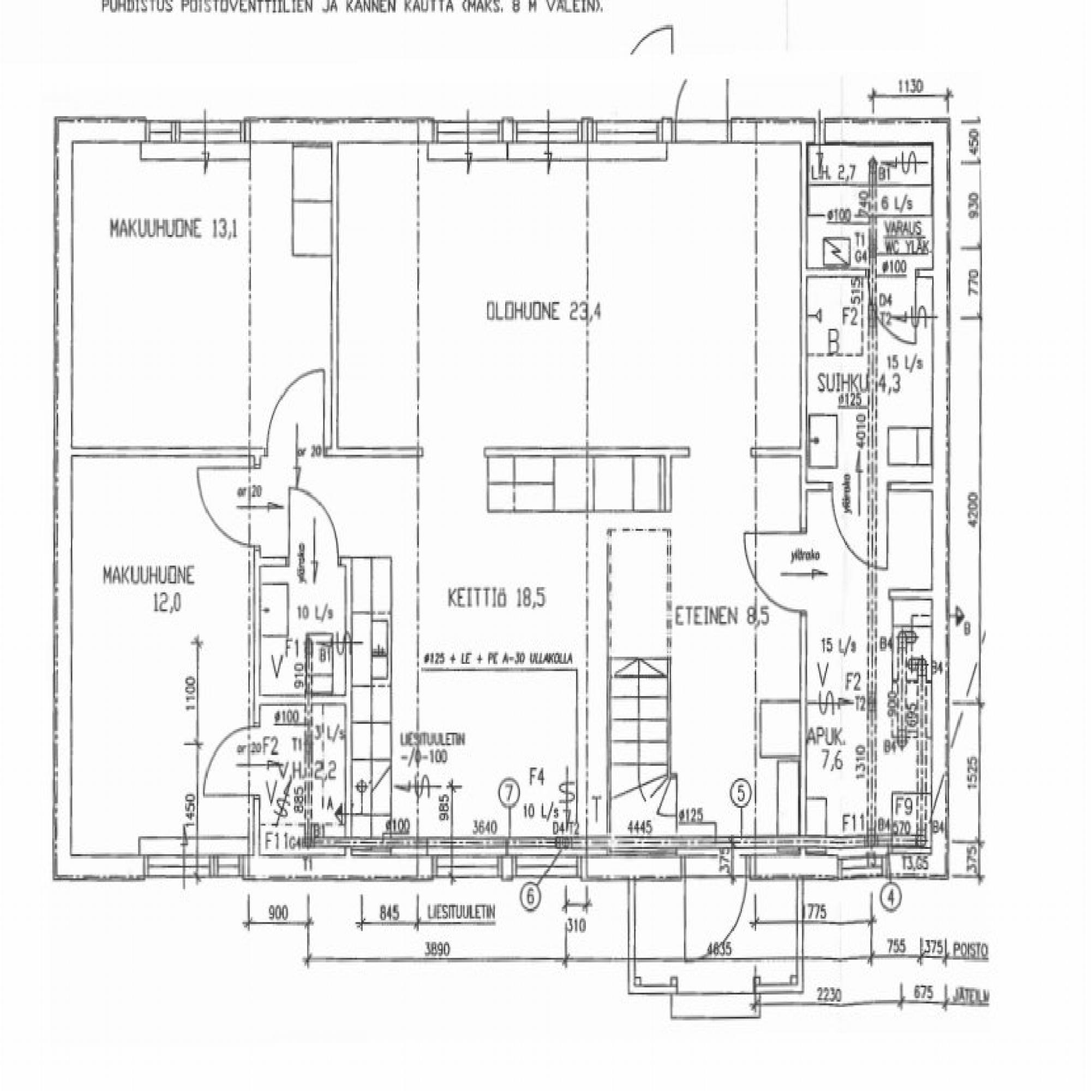wall: (55, 117, 951, 142), (53, 857, 951, 880), (933, 117, 951, 879), (54, 117, 72, 879), (799, 117, 807, 879), (55, 447, 422, 456), (331, 117, 339, 456), (254, 447, 260, 879), (346, 556, 353, 879), (485, 447, 690, 456), (799, 482, 951, 491), (799, 269, 951, 277), (254, 556, 353, 566), (254, 695, 353, 705), (889, 589, 951, 600), (750, 447, 807, 456), (664, 447, 671, 511)
